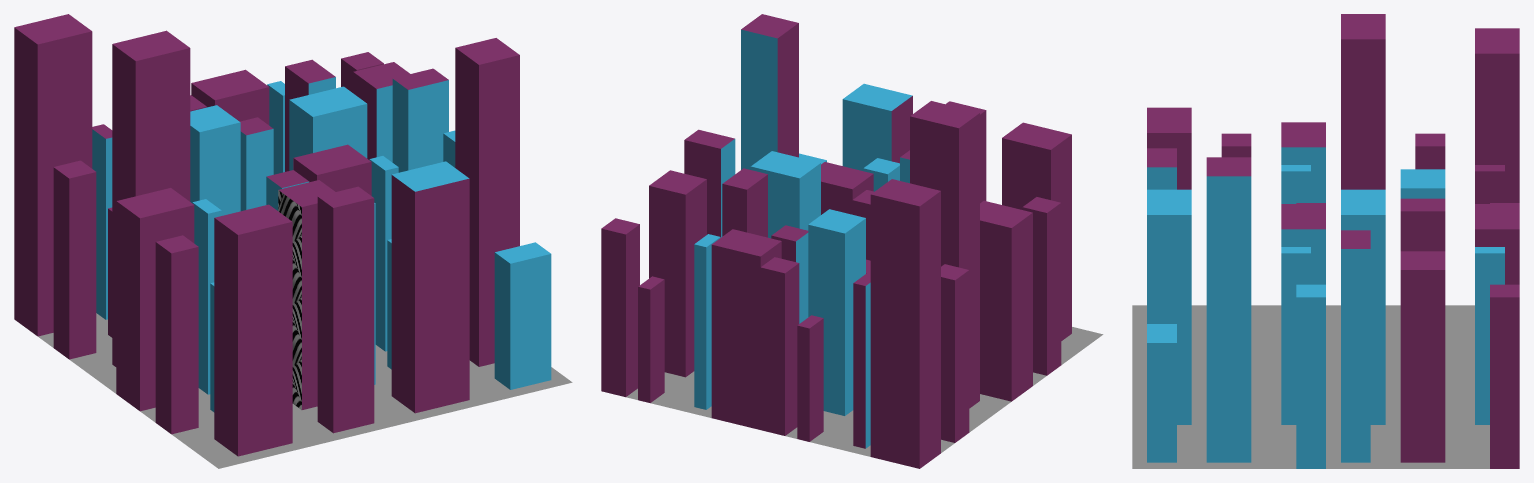
3 views of the same model, side by side, from view 1: azimuth 30°, elevation 25°; view 2: azimuth 150°, elevation 25°; view 3: azimuth 270°, elevation 25° (orthographic). The views are drawn at different scales.
Parts seen in each view (by area): view 1: scene; view 2: scene; view 3: scene.
Boxes of the visible parts, x1,y1,x2,y2 form: scene: [14, 14, 572, 468]; scene: [601, 14, 1103, 468]; scene: [1132, 14, 1519, 468].
Bounding box in the file's own units: 120 × 104 × 120.
Materials: 4 (1 with a texture image).
